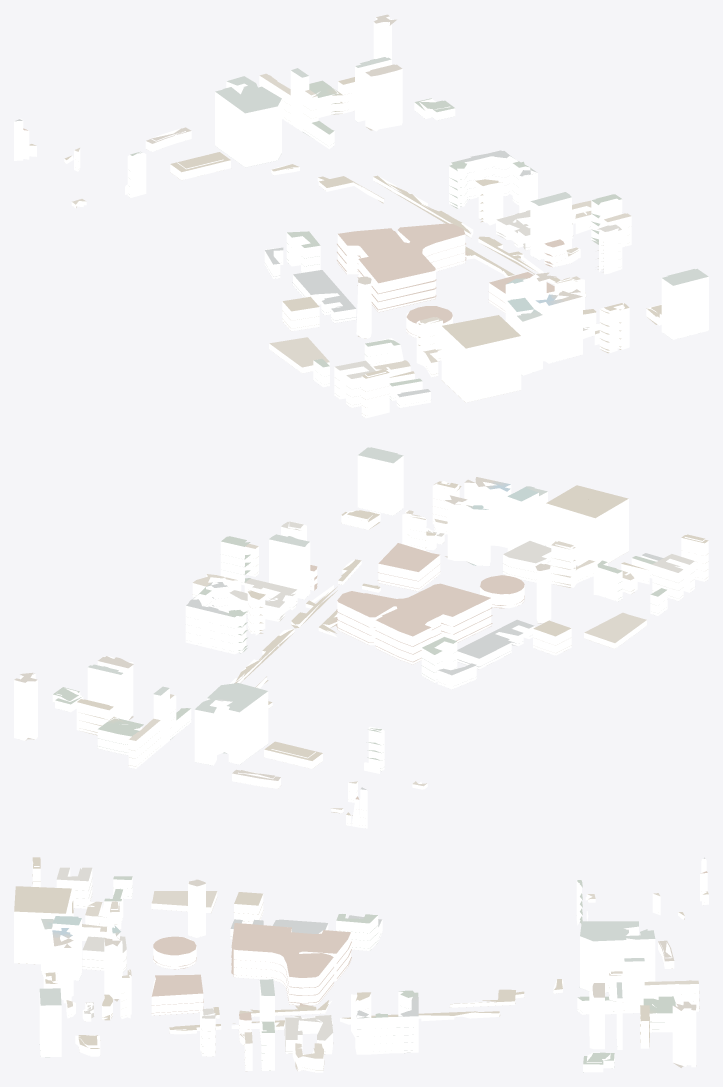
File: buildings--11_0-coarse.glb
The picture shows the model from 3 angles, top to bottom: view 1: azimuth 30°, elevation 25°; view 2: azimuth 150°, elevation 25°; view 3: azimuth 270°, elevation 25°; orthographic projection. The views are drawn at different scales.
Parts seen in each view (by area): view 1: block_-11_0_residential, block_-11_0_office, block_-11_0_roof; view 2: block_-11_0_residential, block_-11_0_office, block_-11_0_roof; view 3: block_-11_0_residential, block_-11_0_roof, block_-11_0_office.
Part boxes in pixels (x1,y1,x2,y2): block_-11_0_residential: (14, 75, 661, 418); block_-11_0_office: (145, 16, 708, 402); block_-11_0_roof: (15, 14, 708, 415); block_-11_0_residential: (52, 481, 708, 828); block_-11_0_office: (14, 455, 628, 788); block_-11_0_roof: (14, 447, 708, 815); block_-11_0_residential: (32, 858, 708, 1072); block_-11_0_roof: (14, 857, 708, 1072); block_-11_0_office: (14, 880, 696, 1067).
Size of the model in its own units: 399 by 64.37 by 660.
